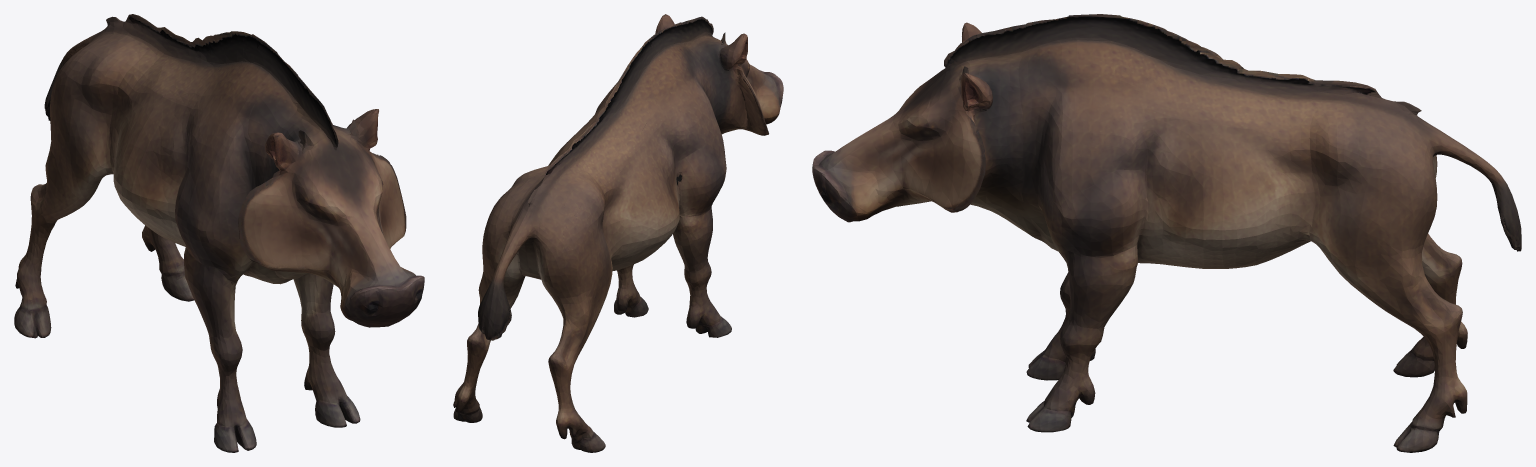
The picture shows the model from 3 angles, left to right: view 1: azimuth 30°, elevation 25°; view 2: azimuth 150°, elevation 25°; view 3: azimuth 270°, elevation 25°; orthographic projection. The views are drawn at different scales.
Parts seen in each view (by area): view 1: world; view 2: world; view 3: world.
Part boxes in pixels (x1,y1,x2,y2): world: [14, 14, 424, 452]; world: [453, 14, 783, 452]; world: [812, 14, 1521, 452].
Bounding box in the file's own units: 0.3041 × 0.6148 × 0.9977.
1 material, 1 textured.
